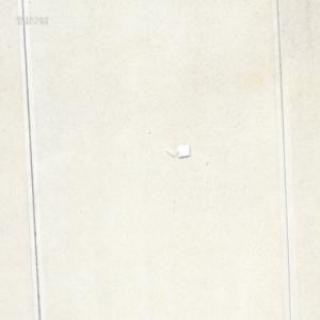LuggageTagtrack_idkeyframe: (163, 142, 189, 159)
